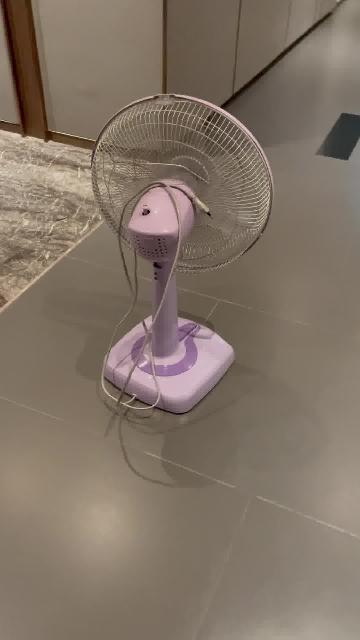Fan: (91, 95, 273, 415)
